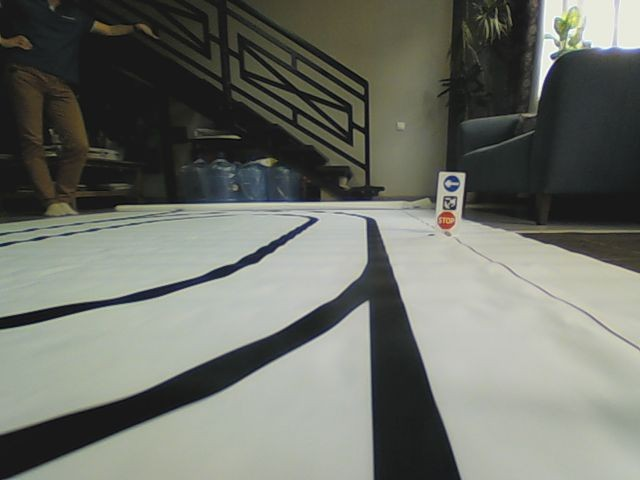Stop: (436, 211, 456, 229)
